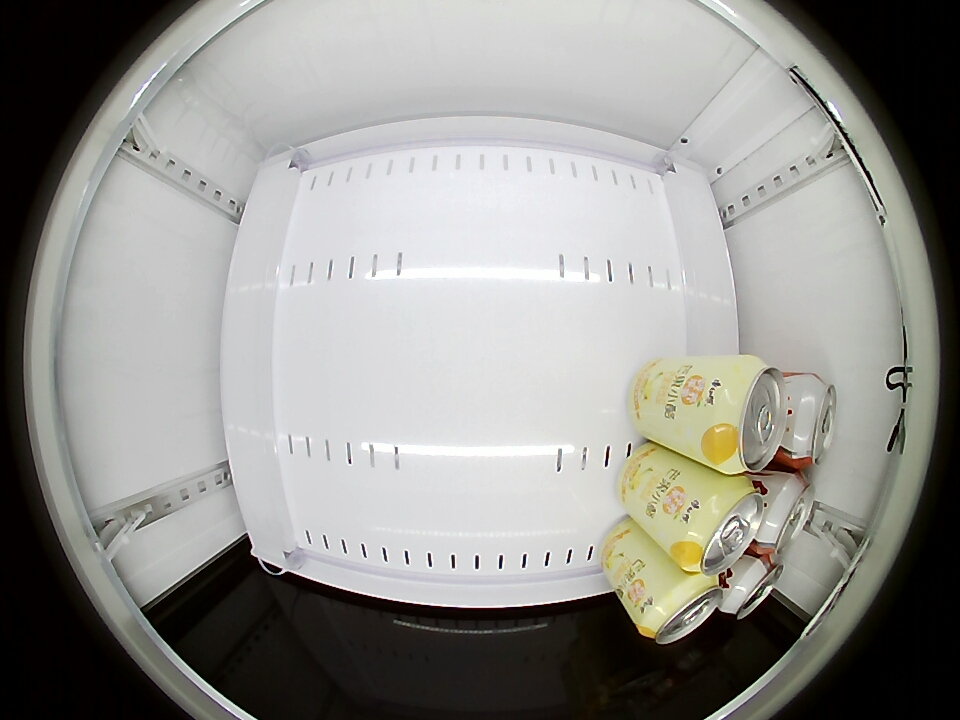jianlibao: (781, 373, 837, 467), (755, 471, 817, 554), (721, 553, 785, 619)
mangguoxiaolao: (702, 356, 788, 475), (676, 476, 765, 576), (637, 573, 723, 645)
